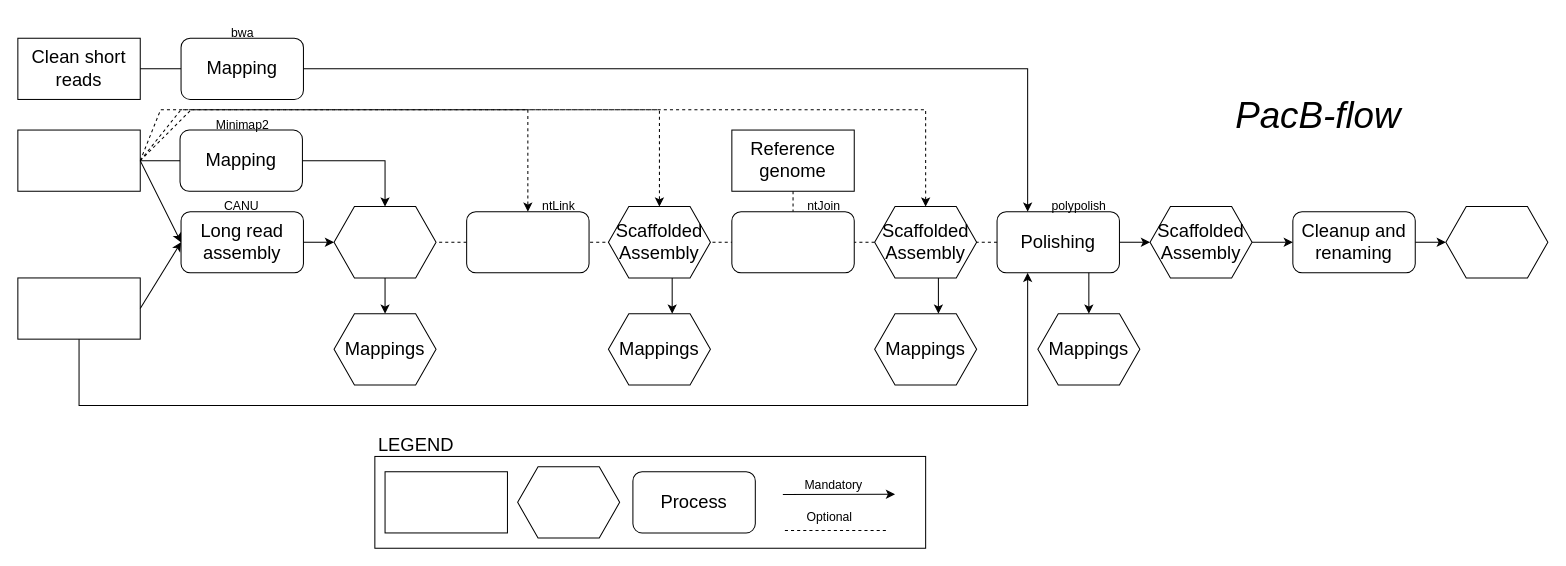
Some shapes in this 1566 by 566 pixel diagram are drawn without their labels. The centre of each missing label's shape, as x and y in pixels:
Clean long reads: pixel 78 160
Final assembly: pixel 1496 242
INPUT: pixel 445 502
Long reads scaffolding: pixel 527 242
Manifest: pixel 78 308
OUTPUT: pixel 568 502
Primary Assembly: pixel 384 242
Reference scaffolding: pixel 792 242
